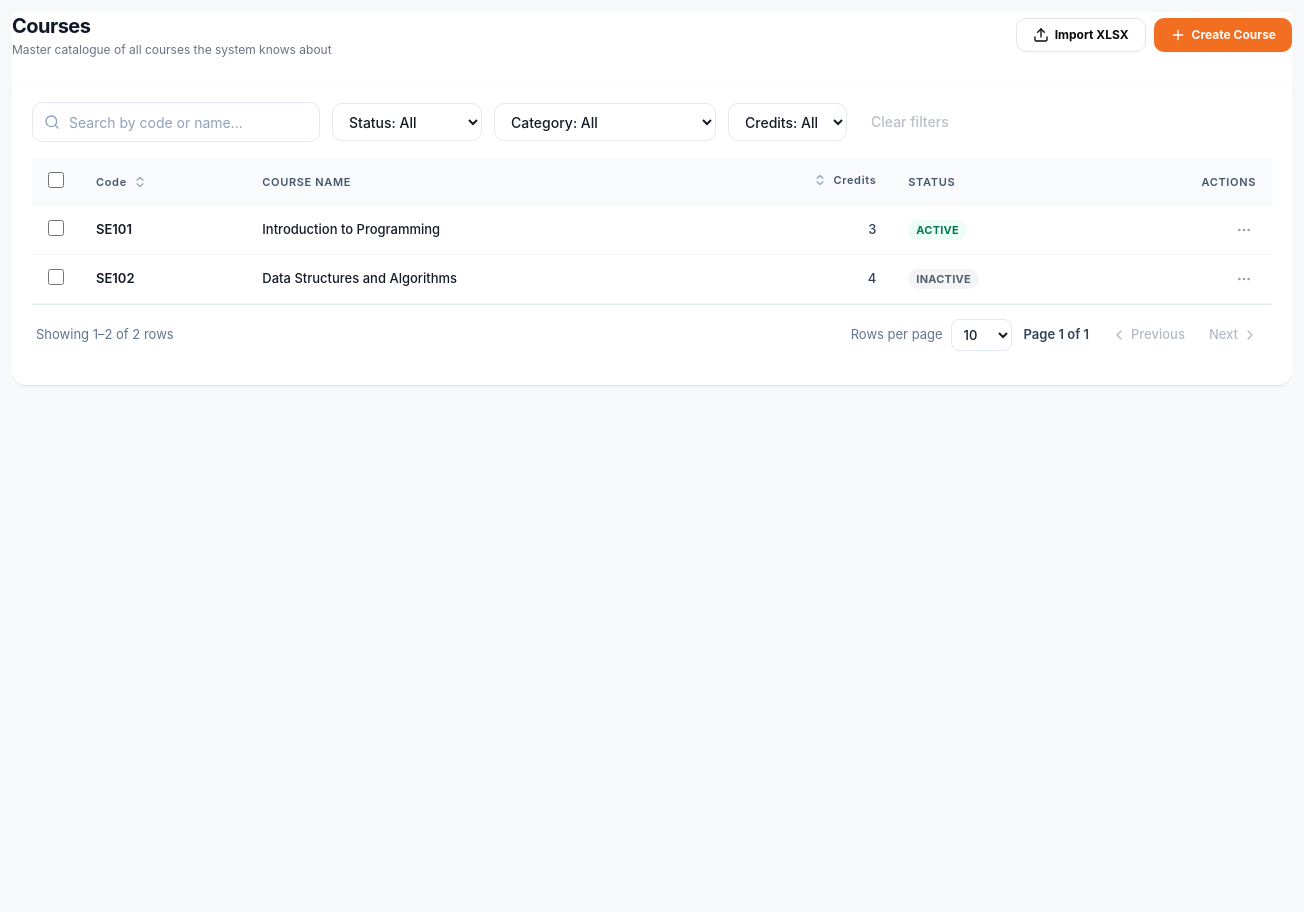
Courses › reveals the bulk delete action when a row is selected
Expected: the text "SE101" is shown, [96,221,132,237]
What coordinates should you click on to do the following:
click the checkbox named "Select row 1"
I would click on:
 (56, 228)
Its box is [48,220,64,236].
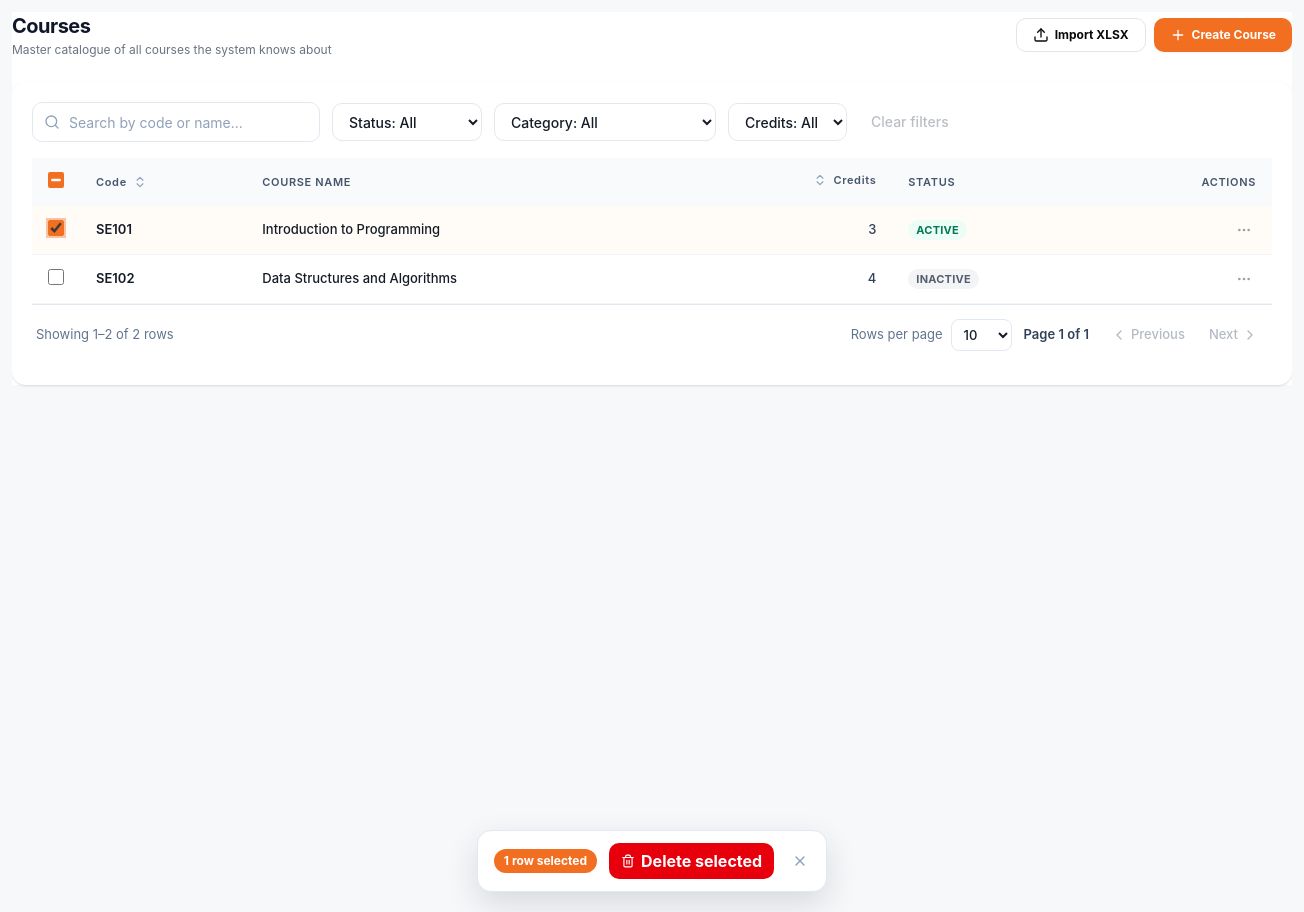
Expected: the text "1 row selected" is shown, [494,849,597,873]
Expected: the button "Delete selected" is shown, [609,843,774,879]
